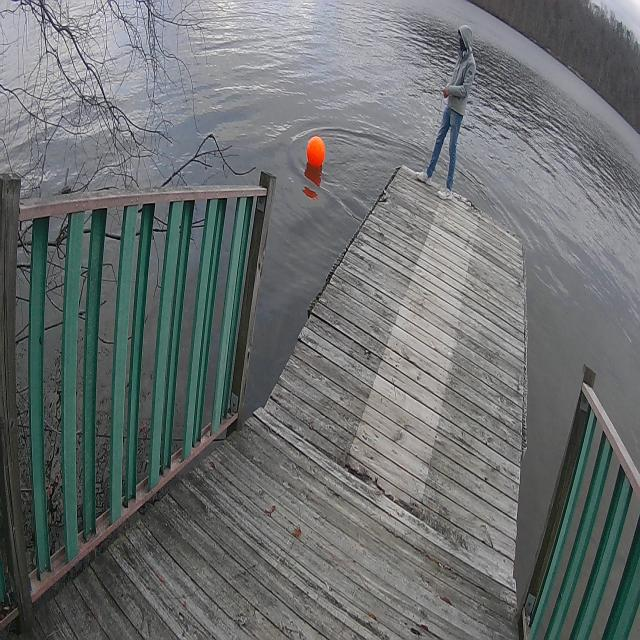Buoy: (304, 131, 326, 172)
